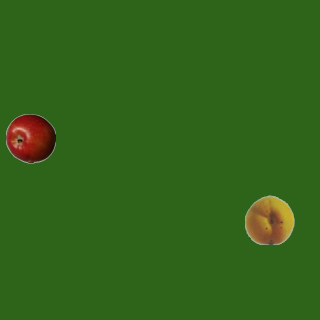Apple Braeburn: (5, 113, 55, 163)
Peach 2: (244, 194, 294, 244)
